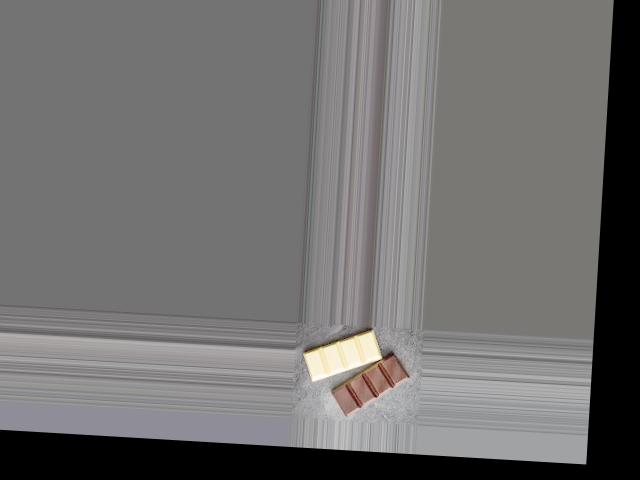chocolate: (295, 326, 411, 418)
